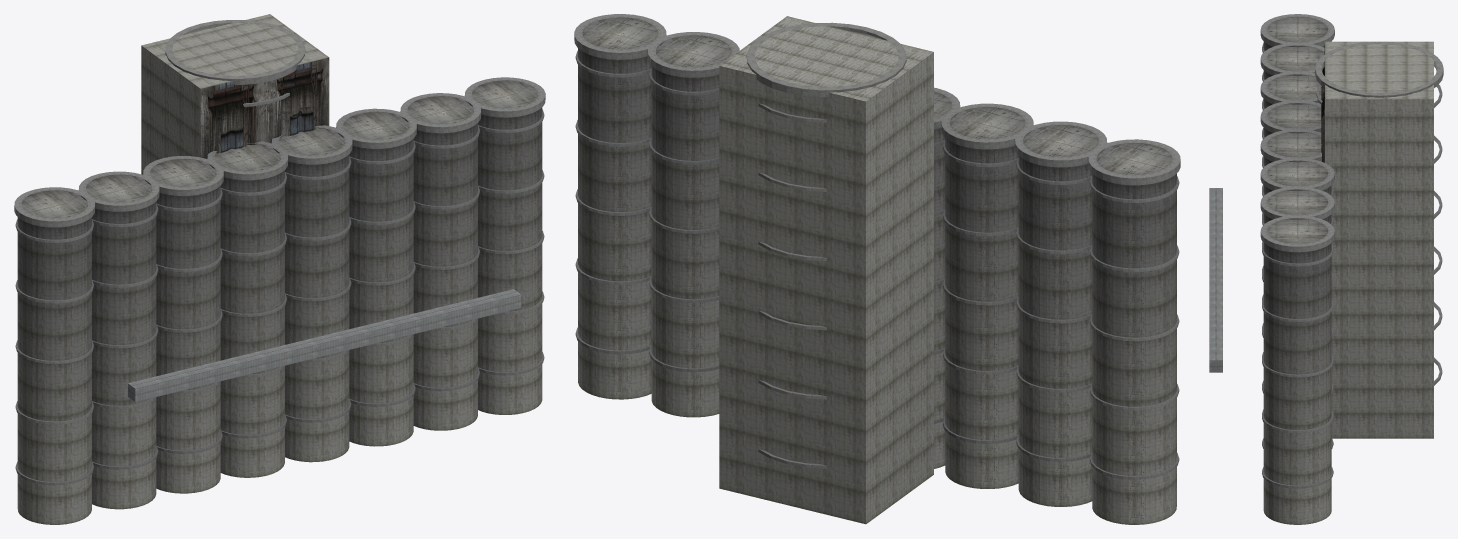
File: riverfront-silos_lod0.gltf
3 views of the same model, side by side, from view 1: azimuth 30°, elevation 25°; view 2: azimuth 150°, elevation 25°; view 3: azimuth 270°, elevation 25° (orthographic). The views are drawn at different scales.
Visible parts, largest first — view 1: riverfront-silos_cyl0, riverfront-silos__v4_cyl_crowns, riverfront-silos_cyl1, riverfront-silos_cyl7, riverfront-silos_cyl2, riverfront-silos_cyl6, riverfront-silos_cyl5, riverfront-silos_cyl4, riverfront-silos_cyl3, riverfront-silos_headhouse, riverfront-silos__conveyor, riverfront-silos_front; view 2: riverfront-silos_headhouse, riverfront-silos_cyl0, riverfront-silos_cyl1, riverfront-silos_cyl7, riverfront-silos_cyl2, riverfront-silos_cyl6, riverfront-silos__v4_cyl_crowns, riverfront-silos_cyl3; view 3: riverfront-silos_headhouse, riverfront-silos_cyl7, riverfront-silos__v4_cyl_crowns, riverfront-silos__conveyor, riverfront-silos_cyl6, riverfront-silos_cyl5, riverfront-silos_cyl0, riverfront-silos_cyl3, riverfront-silos_cyl4, riverfront-silos_cyl1, riverfront-silos_cyl2, riverfront-silos_front.
Boxes of the visible parts, x1,y1,x2,y2 form: riverfront-silos_cyl0: (17,190,91,524); riverfront-silos__v4_cyl_crowns: (14,20,545,485); riverfront-silos_cyl1: (86,175,156,509); riverfront-silos_cyl7: (472,80,542,414); riverfront-silos_cyl2: (150,159,220,493); riverfront-silos_cyl6: (407,96,477,430); riverfront-silos_cyl5: (343,112,413,446); riverfront-silos_cyl4: (279,128,349,462); riverfront-silos_cyl3: (214,144,284,477); riverfront-silos_headhouse: (141,14,329,174); riverfront-silos__conveyor: (128,289,521,401); riverfront-silos_front: (200,58,329,158); riverfront-silos_headhouse: (719,16,933,524); riverfront-silos_cyl0: (1092,143,1176,524); riverfront-silos_cyl1: (1018,125,1098,506); riverfront-silos_cyl7: (578,18,658,399); riverfront-silos_cyl2: (945,107,1025,488); riverfront-silos_cyl6: (651,35,731,417); riverfront-silos__v4_cyl_crowns: (574,14,1180,479); riverfront-silos_cyl3: (934,91,952,468); riverfront-silos_headhouse: (1325,41,1433,438); riverfront-silos_cyl7: (1263,219,1331,524); riverfront-silos__v4_cyl_crowns: (1260,14,1443,488); riverfront-silos__conveyor: (1209,188,1222,372); riverfront-silos_cyl6: (1263,190,1331,223); riverfront-silos_cyl5: (1263,161,1331,194); riverfront-silos_cyl0: (1263,17,1328,50); riverfront-silos_cyl3: (1263,104,1321,137); riverfront-silos_cyl4: (1263,133,1321,165); riverfront-silos_cyl1: (1263,46,1324,79); riverfront-silos_cyl2: (1263,75,1321,108); riverfront-silos_front: (1321,44,1324,162).
Bounding box in the file's own units: 80.9 × 55.3 × 34.45.
